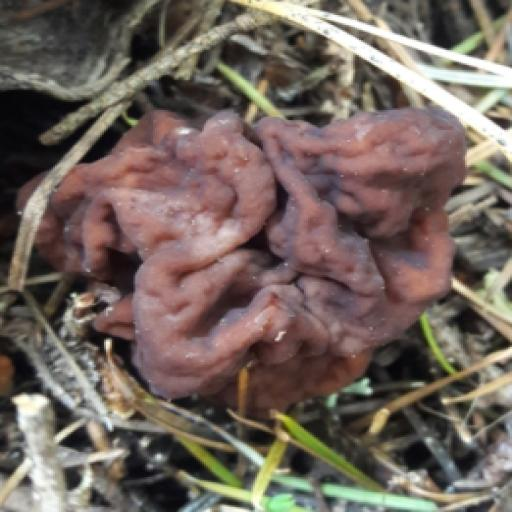False Morel: (56, 124, 461, 388)
